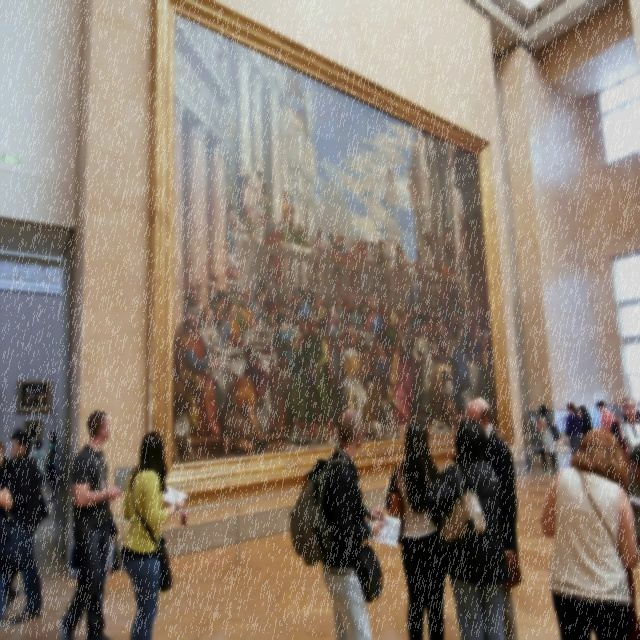pessoa: (158, 167, 504, 461), (540, 423, 640, 640), (311, 404, 388, 640), (433, 413, 508, 640), (386, 420, 456, 640), (58, 410, 124, 640), (464, 396, 524, 640), (119, 432, 186, 640), (0, 430, 45, 624), (610, 396, 640, 552), (0, 438, 11, 627), (532, 404, 558, 476), (562, 402, 584, 457), (44, 429, 60, 504), (32, 438, 48, 504), (596, 399, 616, 432), (626, 438, 640, 484), (577, 404, 594, 438), (619, 399, 640, 422)
